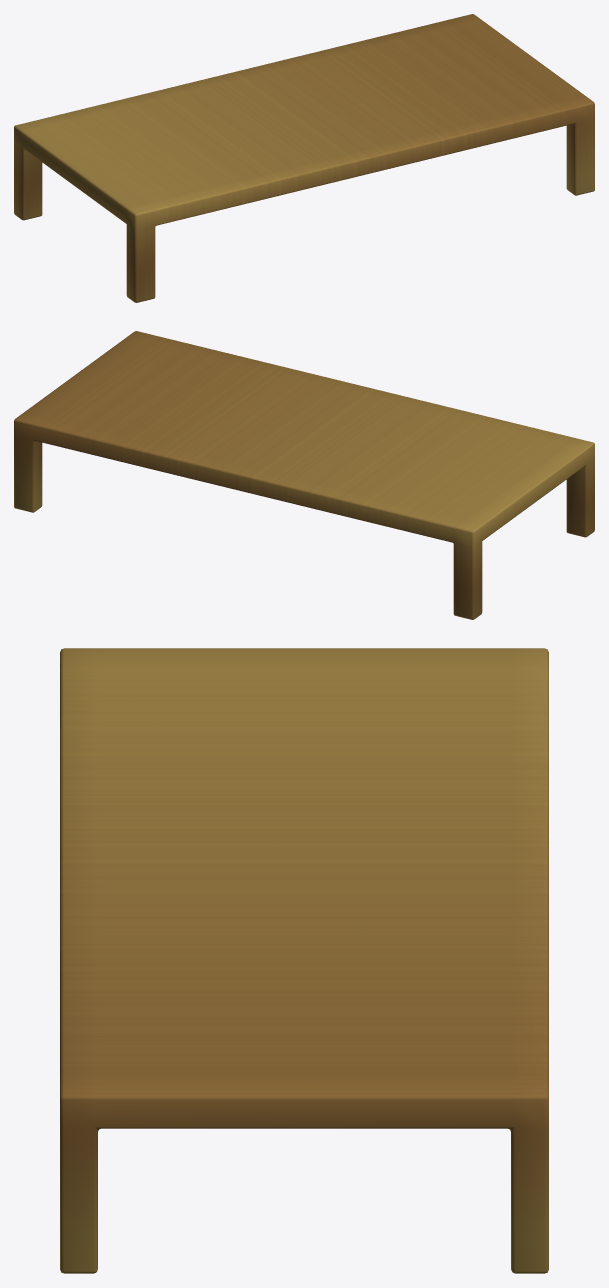
The model's file is Table.fbx.
The picture shows the model from 3 angles, top to bottom: view 1: azimuth 30°, elevation 25°; view 2: azimuth 150°, elevation 25°; view 3: azimuth 270°, elevation 25°; orthographic projection. The views are drawn at different scales.
Parts seen in each view (by area): view 1: Table; view 2: Table; view 3: Table.
Boxes of the visible parts, <box> form: Table: <box>14,14,594,302</box>; Table: <box>14,331,594,619</box>; Table: <box>60,648,548,1273</box>.
Bounding box in the file's own units: 130 × 24.08 × 59.66.
Materials: 1 (1 with a texture image).
